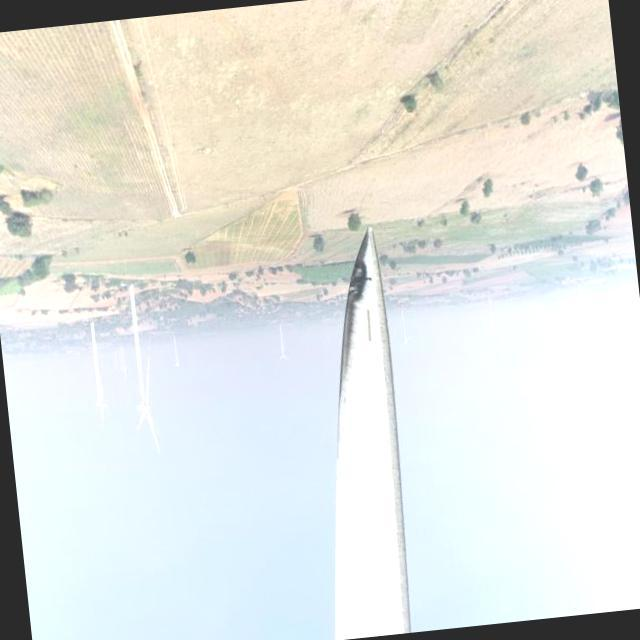Oil LEAKAGE: (333, 230, 370, 397)
Pin Hole: (365, 274, 375, 287)
